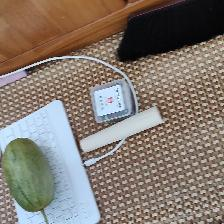gua: (10, 148, 46, 206)
